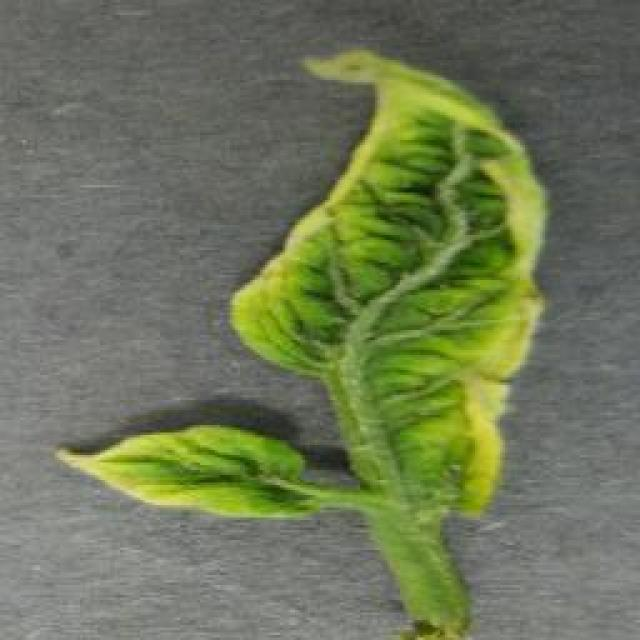Tomato yellow virus leaf: (232, 41, 552, 521), (58, 421, 320, 524)
